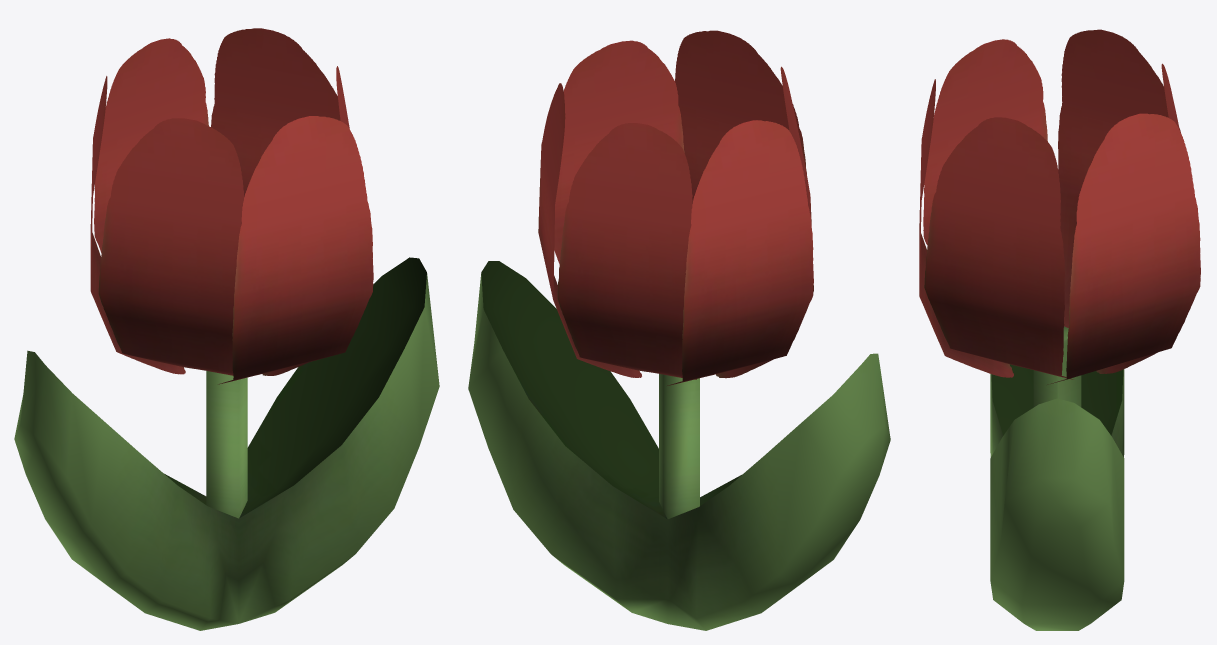
Rendered from rose.glb.
The picture shows the model from 3 angles, left to right: view 1: azimuth 30°, elevation 25°; view 2: azimuth 150°, elevation 25°; view 3: azimuth 270°, elevation 25°; orthographic projection.
Visible parts, largest first — view 1: sm_Flower_Rose_1; view 2: sm_Flower_Rose_1; view 3: sm_Flower_Rose_1.
Part boxes in pixels (<box>): sm_Flower_Rose_1: <box>14,28,439,630</box>; sm_Flower_Rose_1: <box>468,30,890,630</box>; sm_Flower_Rose_1: <box>919,29,1200,630</box>.
Size of the model in its own units: 0.2191 by 0.2853 by 0.1361.
Materials: 1 (1 with a texture image).
